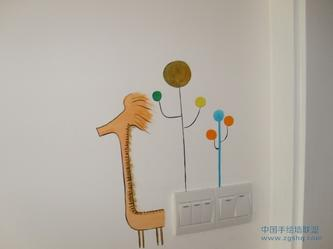switch: (218, 196, 236, 219), (236, 194, 250, 217), (178, 203, 191, 224), (191, 202, 202, 223), (202, 201, 213, 222)
